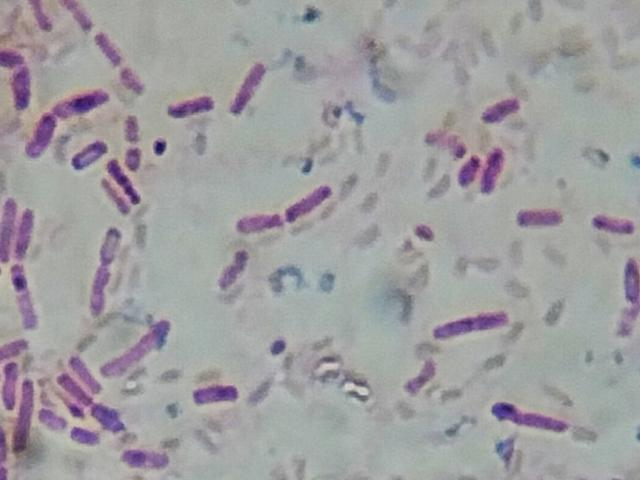E. coli: (108, 317, 174, 378), (229, 52, 277, 128), (438, 300, 513, 341), (491, 393, 564, 435), (13, 262, 49, 330), (79, 263, 116, 321), (2, 46, 35, 111), (161, 91, 223, 125), (289, 182, 336, 221), (19, 381, 43, 456), (483, 90, 529, 129), (585, 210, 639, 242), (192, 382, 250, 410), (18, 0, 59, 39), (51, 83, 104, 113), (513, 205, 565, 235), (65, 353, 103, 391), (402, 357, 443, 391), (619, 257, 640, 323), (71, 139, 108, 175), (1, 193, 18, 269), (99, 27, 130, 66), (31, 115, 62, 154), (59, 0, 99, 30), (98, 219, 121, 269), (238, 210, 279, 238), (112, 159, 138, 203), (482, 147, 504, 197), (15, 207, 36, 256), (5, 363, 26, 411), (126, 449, 170, 471), (0, 330, 30, 361), (98, 405, 127, 437), (59, 376, 91, 403), (101, 185, 129, 214), (458, 153, 476, 198), (114, 71, 144, 96), (72, 423, 98, 447), (122, 115, 143, 143), (128, 146, 150, 170)
